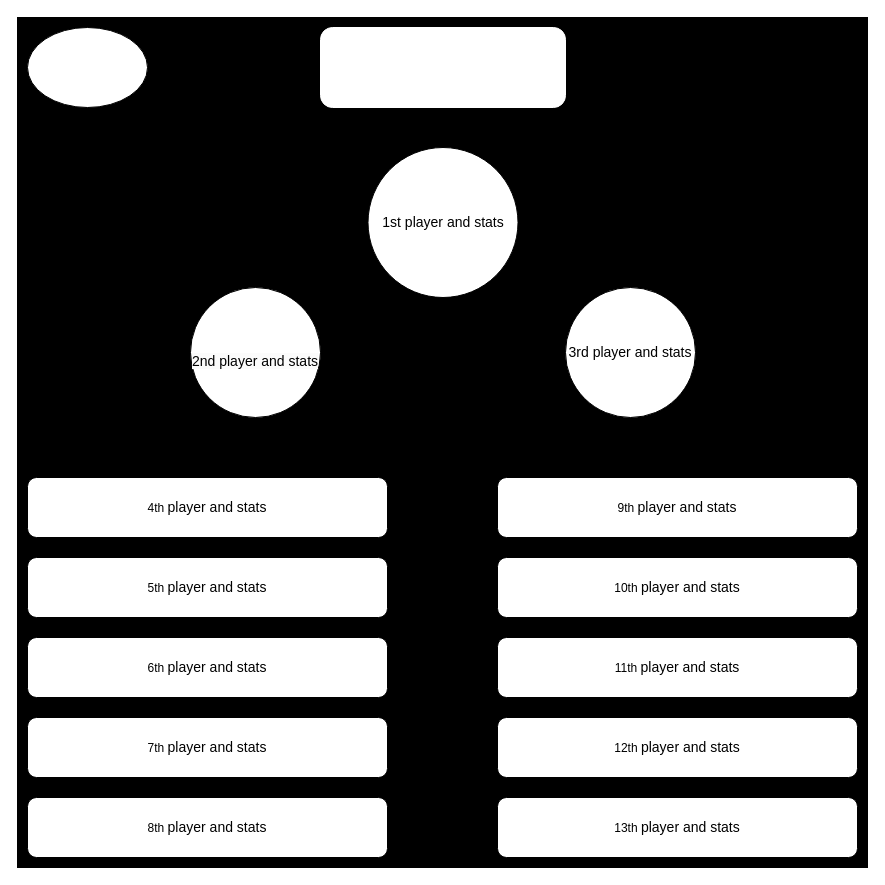
The diagram is 885 pixels wide and 885 high, and some of its shapes have lost their labels. Each missing label, with the box of its shape:
Back: (26, 26, 148, 108)
Leaderboard: (320, 26, 566, 108)
